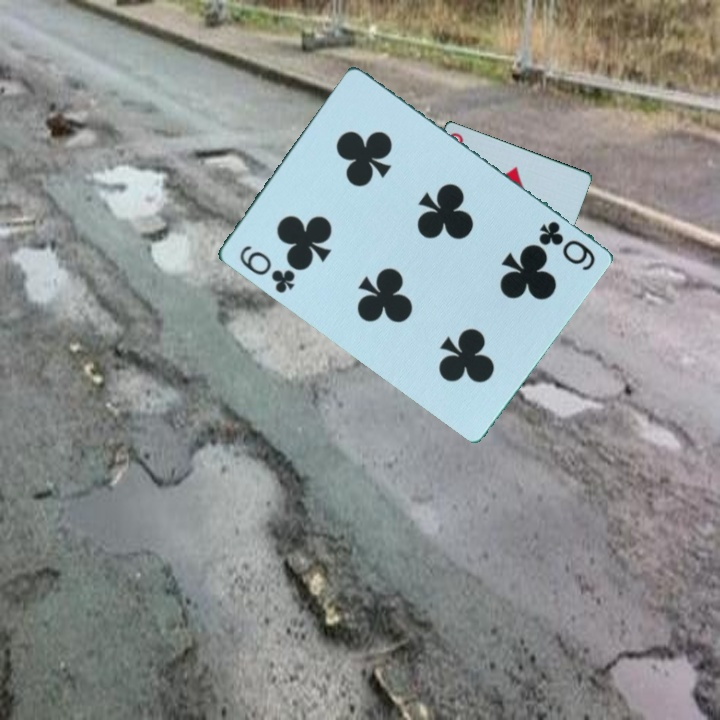6c: (534, 217, 598, 274), (235, 241, 298, 297)
